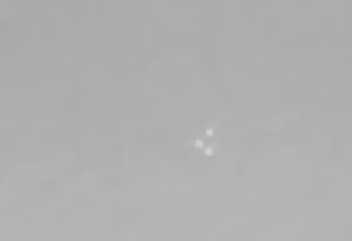Target: (195, 130, 211, 155)
